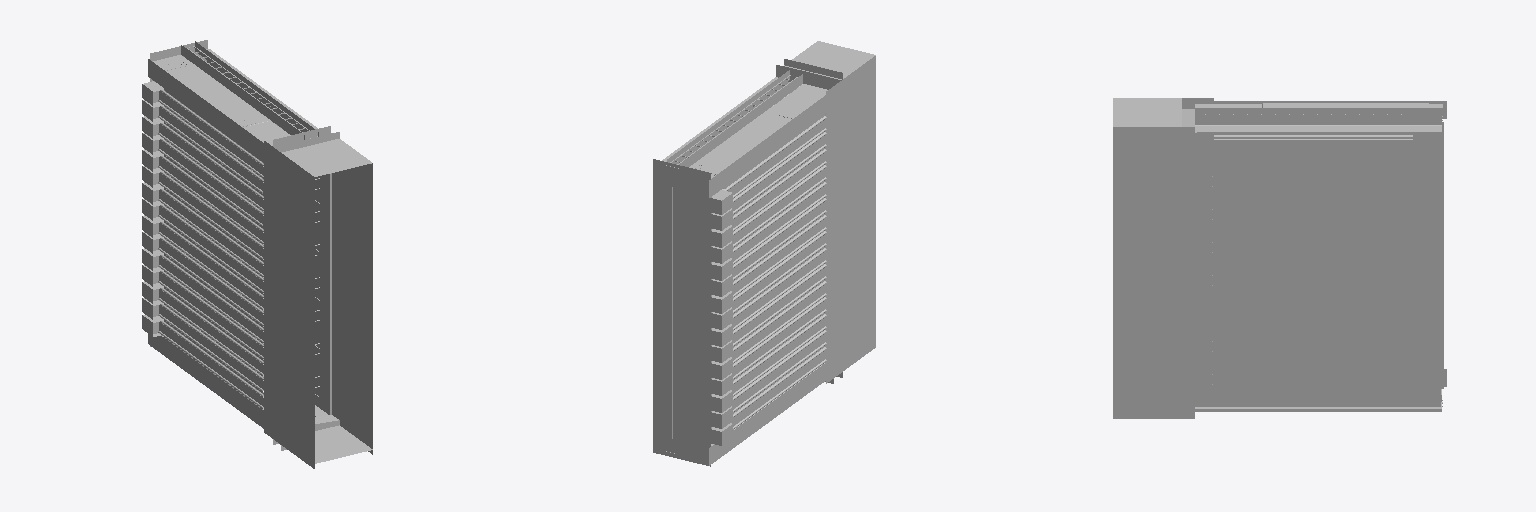
Rendered from alley4.obj.
3 renders of one model, left to right at view 1: azimuth 30°, elevation 25°; view 2: azimuth 150°, elevation 25°; view 3: azimuth 270°, elevation 25°, orthographic.
Parts seen in each view (by area): view 1: Venue01.lwo; view 2: Venue01.lwo; view 3: Venue01.lwo.
Boxes of the visible parts, box(x1,y1,x2,y2) form: Venue01.lwo: box(142, 40, 372, 468); Venue01.lwo: box(653, 41, 875, 466); Venue01.lwo: box(1113, 98, 1446, 418).
Size of the model in its own units: 12.98 by 55.97 by 55.51.